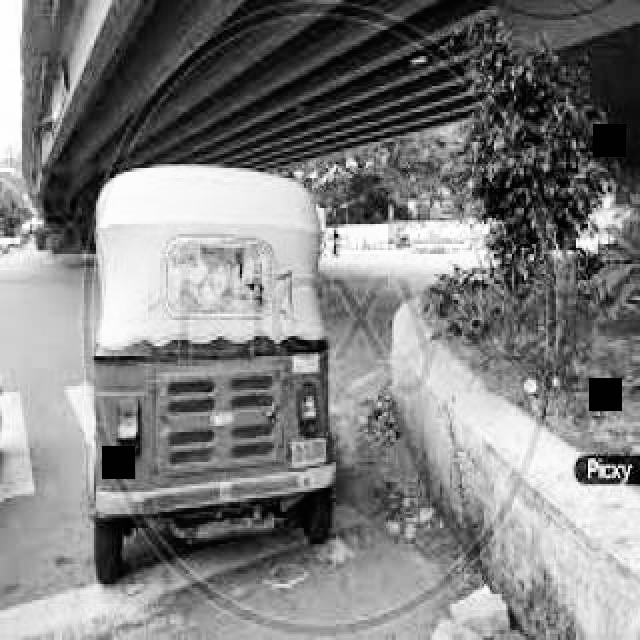Auto-Rickshaw: (66, 128, 412, 600)
